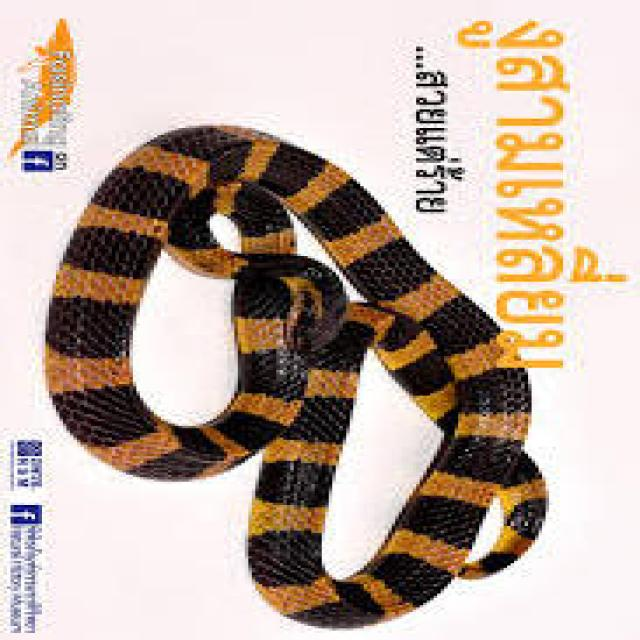Venomous: (193, 218, 368, 384)
